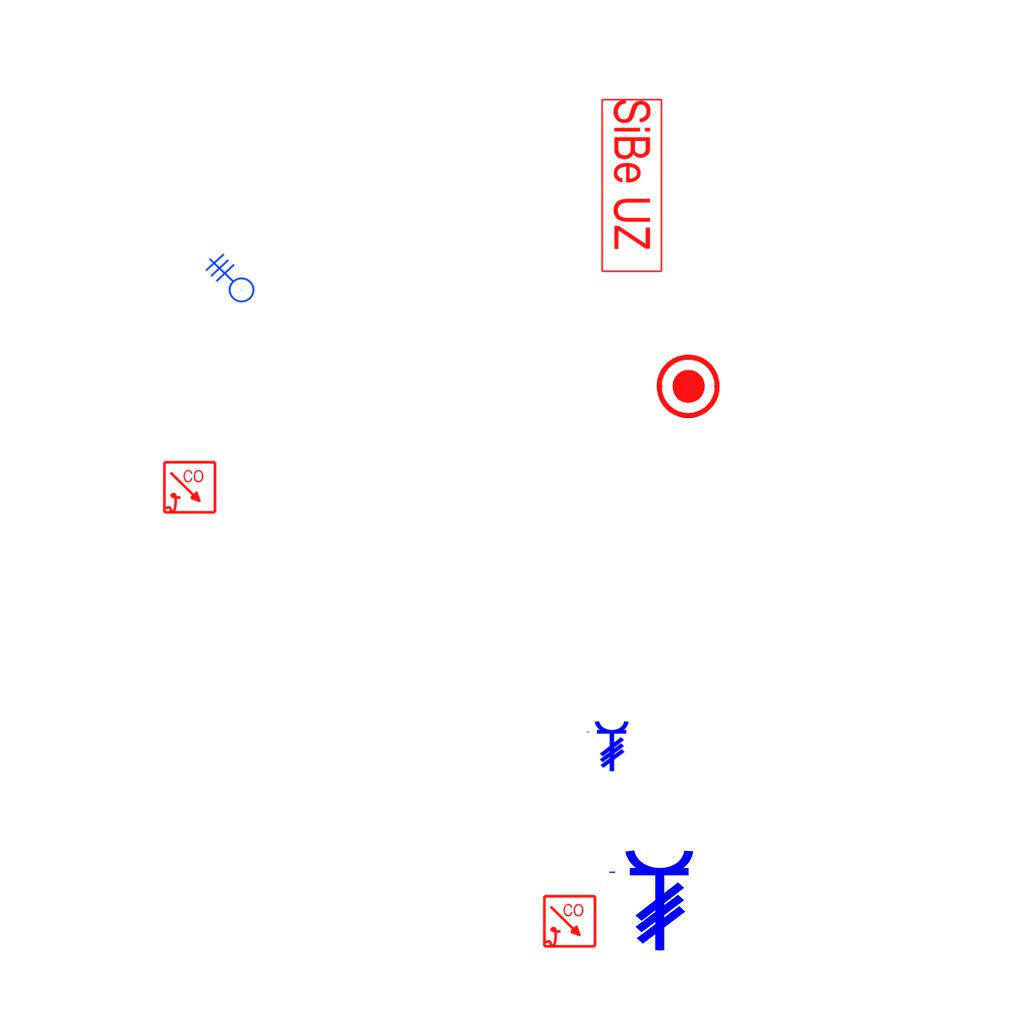CEE_Drehstrom_Steckdose_16_32_A: (606, 848, 696, 952), (585, 720, 630, 772)
Elektroanschluss_allgemein_400V_Geraeteanschlussdose_400V: (199, 253, 255, 311)
ROA_Rauchmelder_optisch_mit_Signalgeber_(Sockelsirene): (542, 894, 598, 950), (162, 460, 218, 516)
Taster: (656, 352, 722, 418)
Zentrale_Sicherheitsbeleuchtung: (599, 97, 664, 275)
